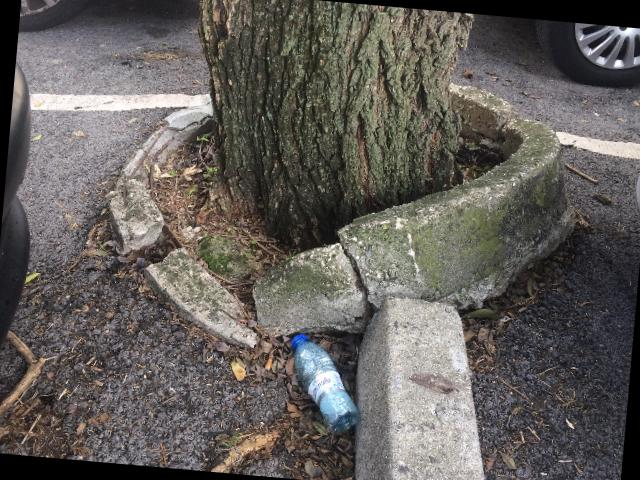plastic: (290, 332, 357, 432)
